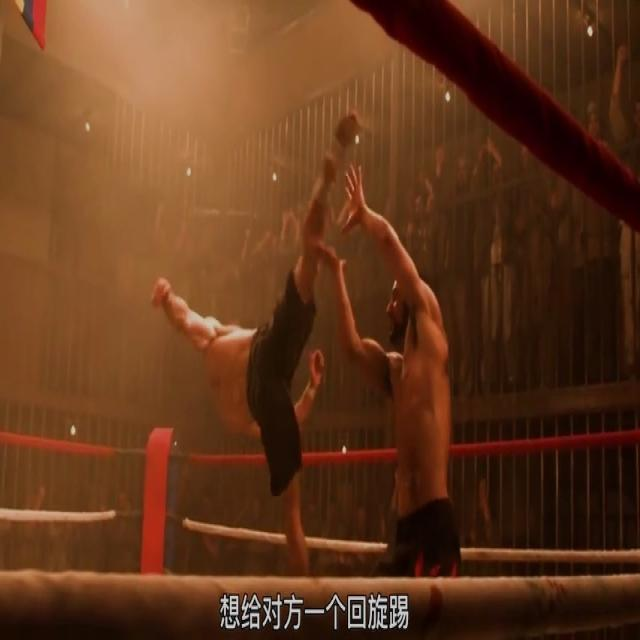fight: (150, 108, 462, 581)
